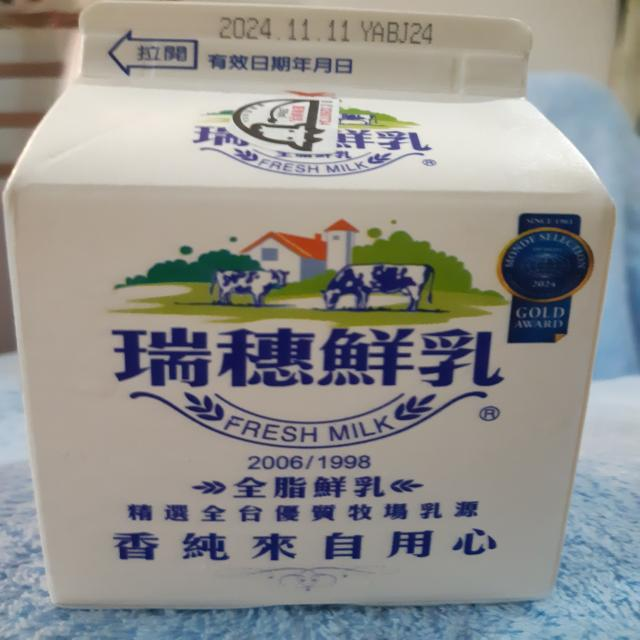RuiSui_Milk: (2, 0, 616, 615)
